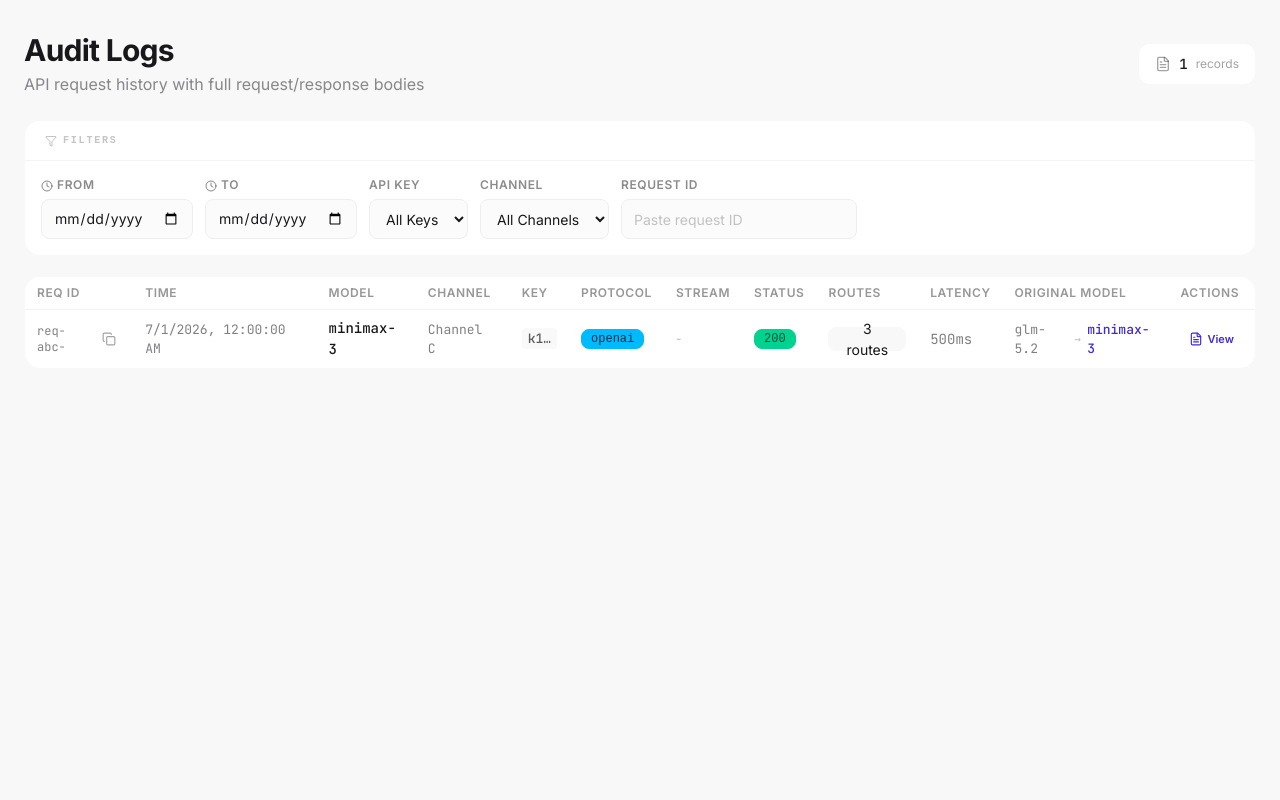
Test: Logs page › opens routes modal with all attempts on badge click
Click the button "3 routes" at (867, 339), box x1=828 y1=327 x2=906 y2=351
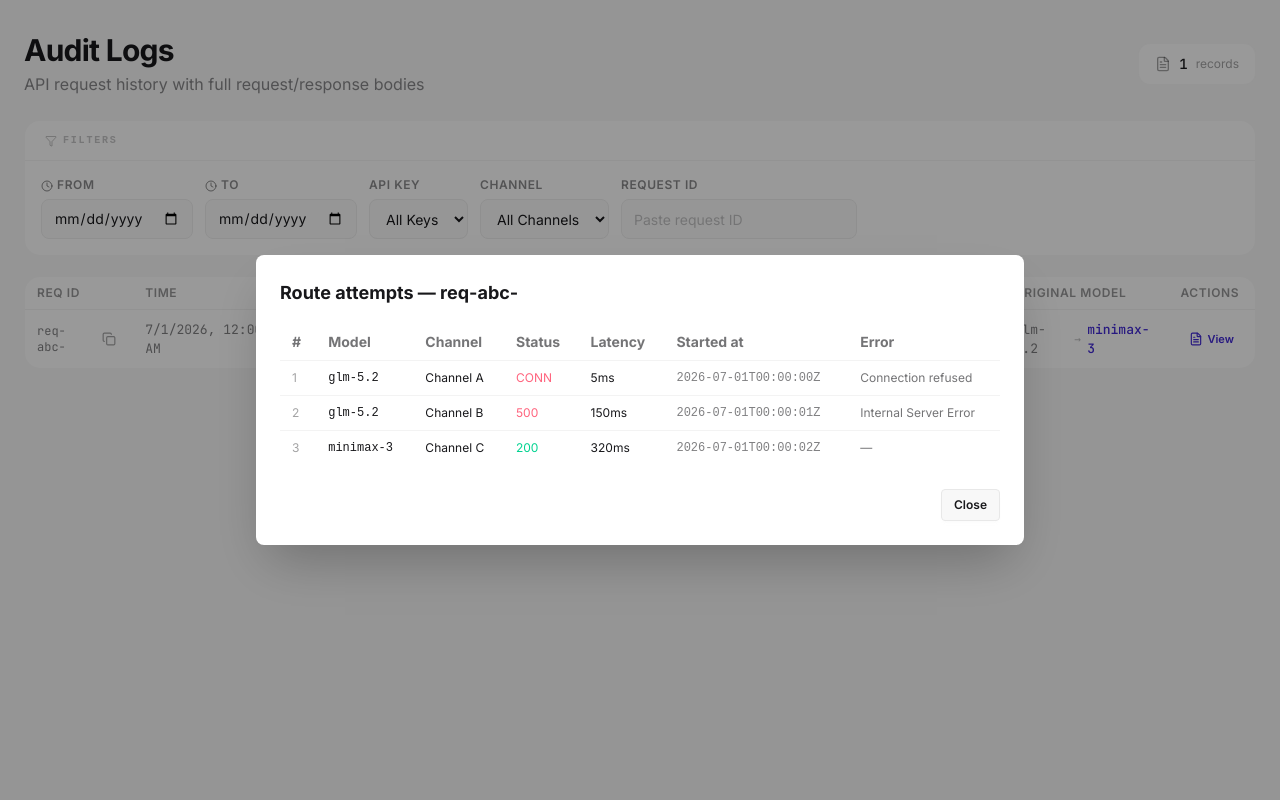
Expected: the text "Connection refused" is shown, x1=848 y1=361 x2=1000 y2=396
Expected: the text "Internal Server Error" is shown, x1=848 y1=396 x2=1000 y2=431
